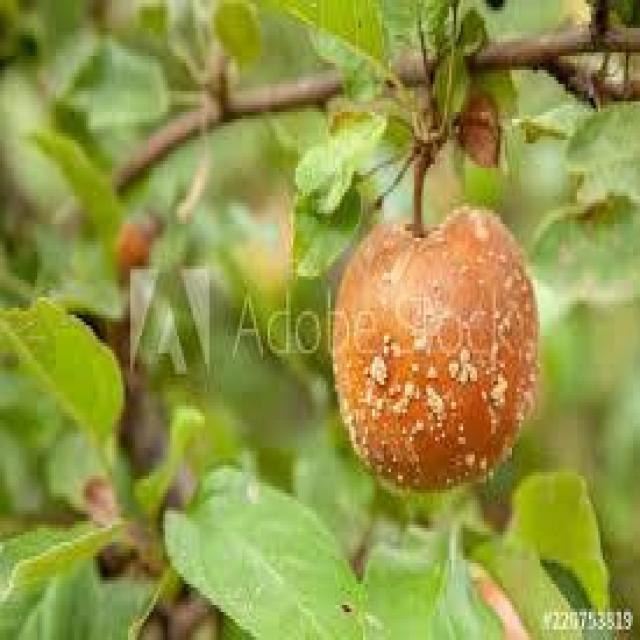Rotten: (325, 197, 540, 495)
